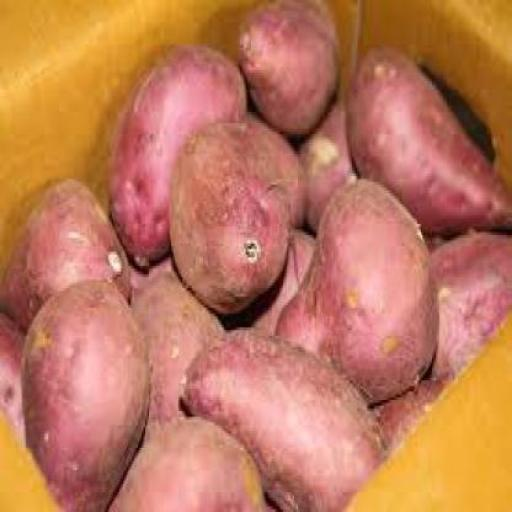biodegradable: (176, 324, 378, 509), (274, 173, 434, 403), (104, 42, 246, 268), (344, 40, 510, 232), (18, 274, 146, 510), (168, 109, 290, 319), (0, 173, 130, 318), (125, 263, 223, 436), (100, 414, 264, 510), (236, 0, 338, 132), (424, 224, 510, 378), (218, 226, 316, 334), (300, 95, 358, 226), (371, 384, 454, 454), (0, 311, 28, 434)
cardboard: (0, 0, 107, 180), (417, 425, 510, 509), (361, 0, 510, 48), (452, 50, 510, 114), (161, 0, 238, 46), (106, 0, 162, 59), (333, 0, 364, 87), (464, 370, 510, 428), (0, 453, 36, 509), (378, 458, 417, 506), (484, 115, 510, 171), (415, 50, 454, 87), (0, 176, 21, 230), (486, 338, 510, 372), (106, 61, 128, 90), (0, 417, 18, 450), (432, 403, 454, 425), (20, 176, 38, 202), (35, 480, 52, 506), (356, 487, 376, 509), (106, 92, 123, 112), (400, 442, 417, 459), (93, 182, 106, 201), (443, 392, 464, 403), (237, 0, 249, 17), (367, 472, 378, 488), (450, 380, 464, 392), (130, 62, 146, 72), (224, 44, 234, 59), (473, 358, 486, 369), (496, 328, 510, 338), (390, 450, 400, 462), (0, 232, 7, 249), (456, 408, 463, 423), (348, 498, 356, 509), (408, 434, 418, 442), (477, 347, 484, 358), (425, 414, 432, 423), (503, 316, 510, 325)
